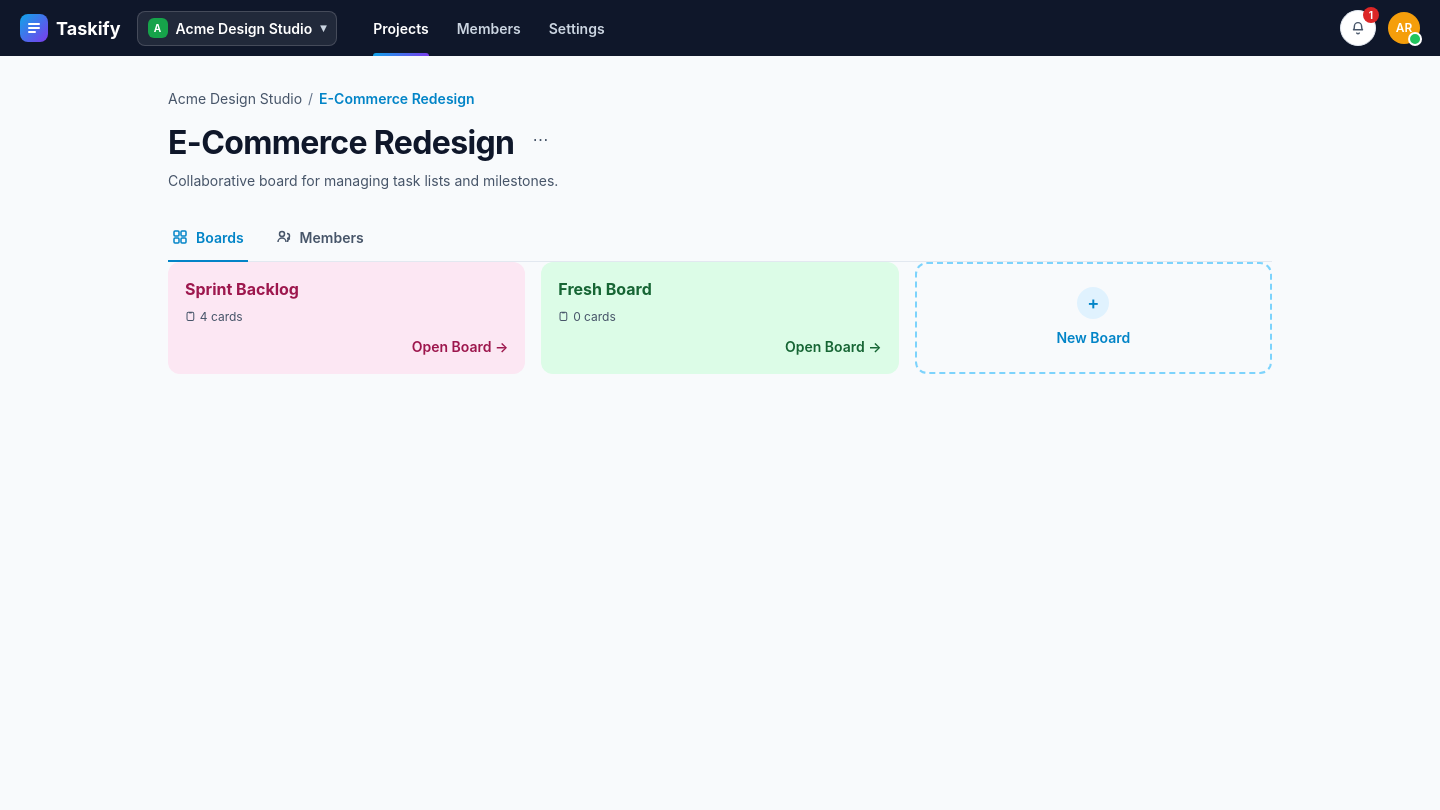
Test: project actions › edits the project's name and description
Click the button named "Project actions": (540, 139) [526, 125, 554, 153]
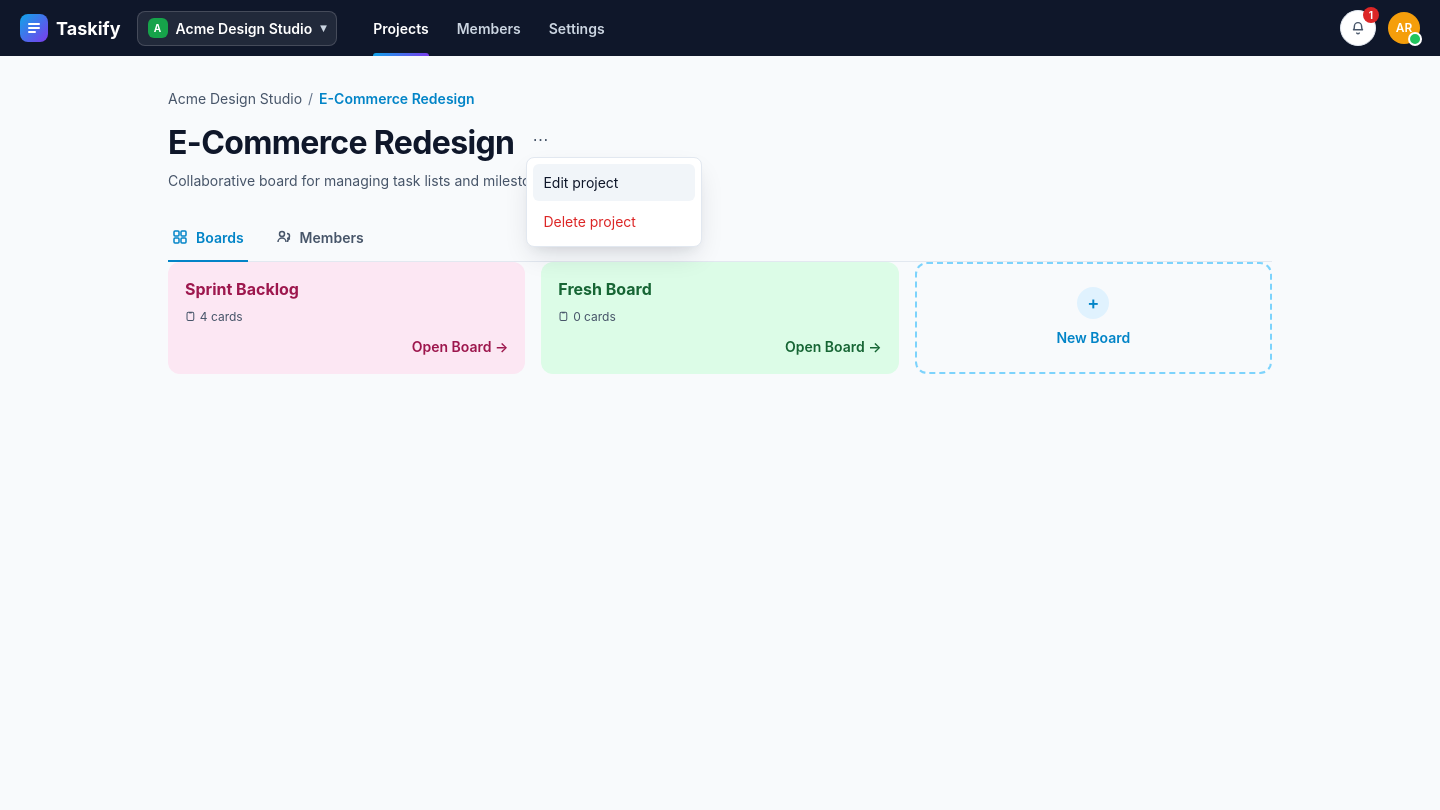
Click the menu item "Edit project": (614, 183) [533, 164, 695, 201]
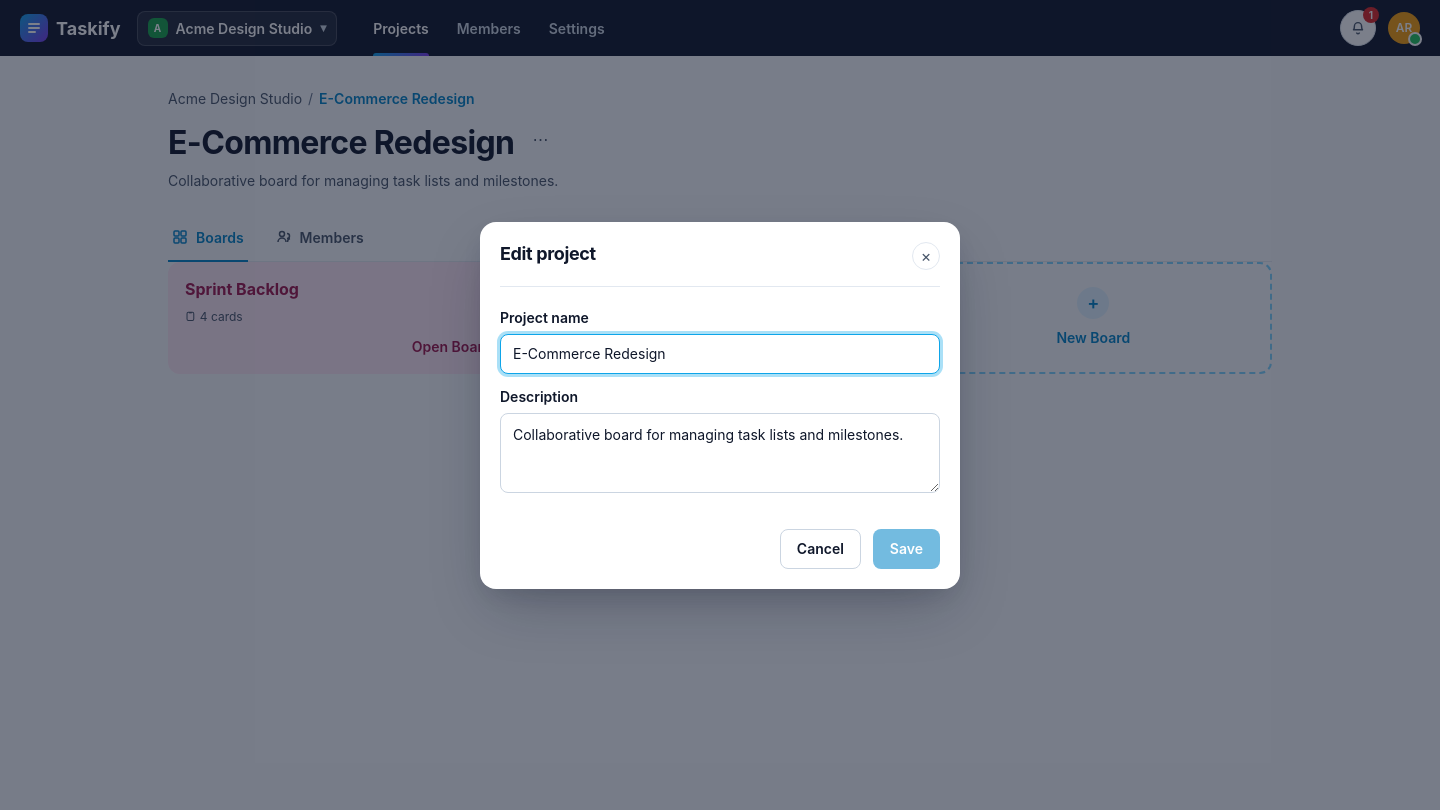
Replace the text in the field labelled "Project name" with "Storefront Rebuild": (720, 354) [513, 336, 927, 371]
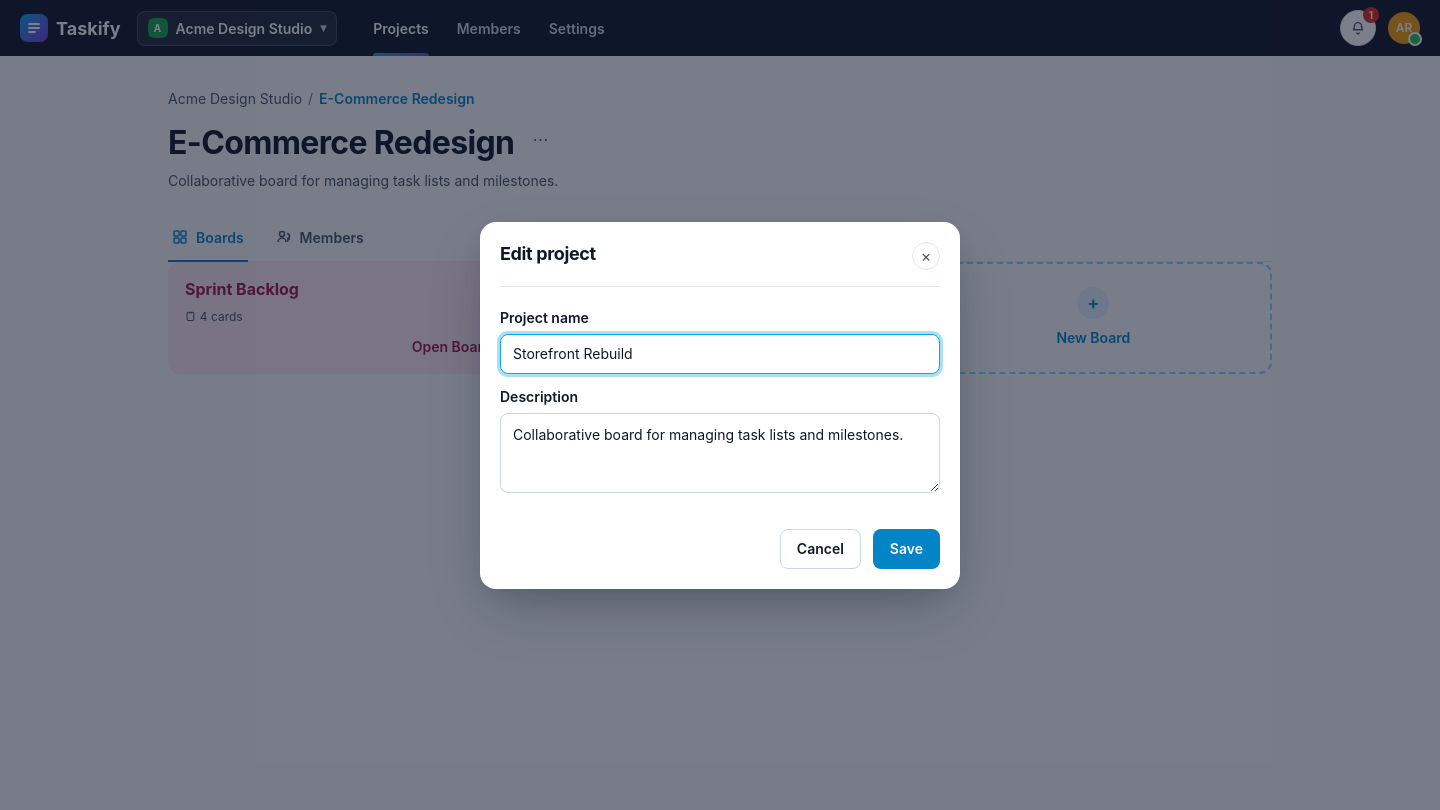
Click the button "Save": (906, 548) [873, 528, 940, 568]
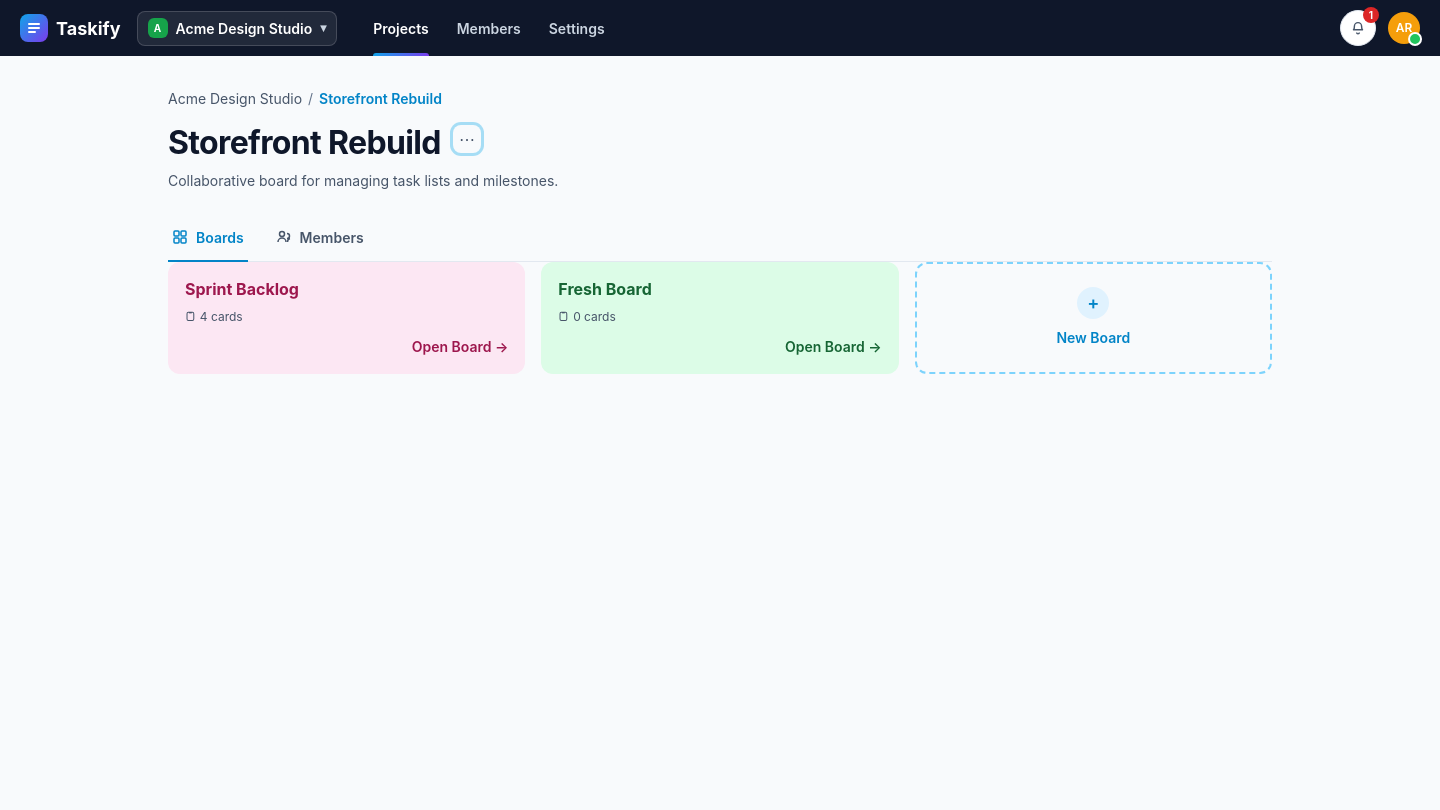
Result: the heading "Storefront Rebuild" is shown at [168, 125, 441, 162]
